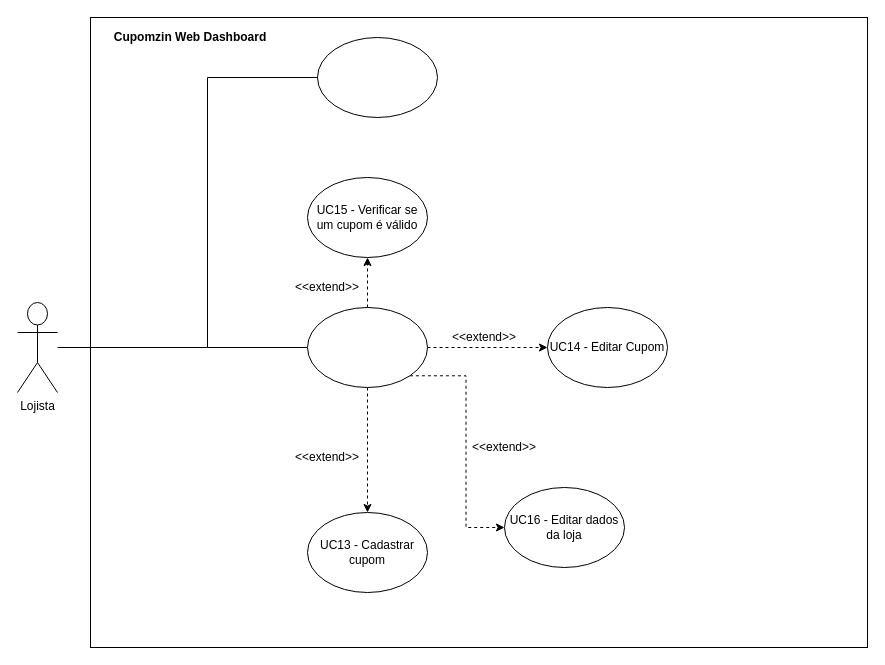
This 885x665 diagram has some shape labels left out. The shapes that lost their labels are listed below. From the top down, each one's box as (x1, y1, x2, y2) in pixels, then its label:
(316, 36, 438, 118): UC11 - Cadastrar loja
(306, 306, 428, 388): UC12 - Realizar Login como lojista
